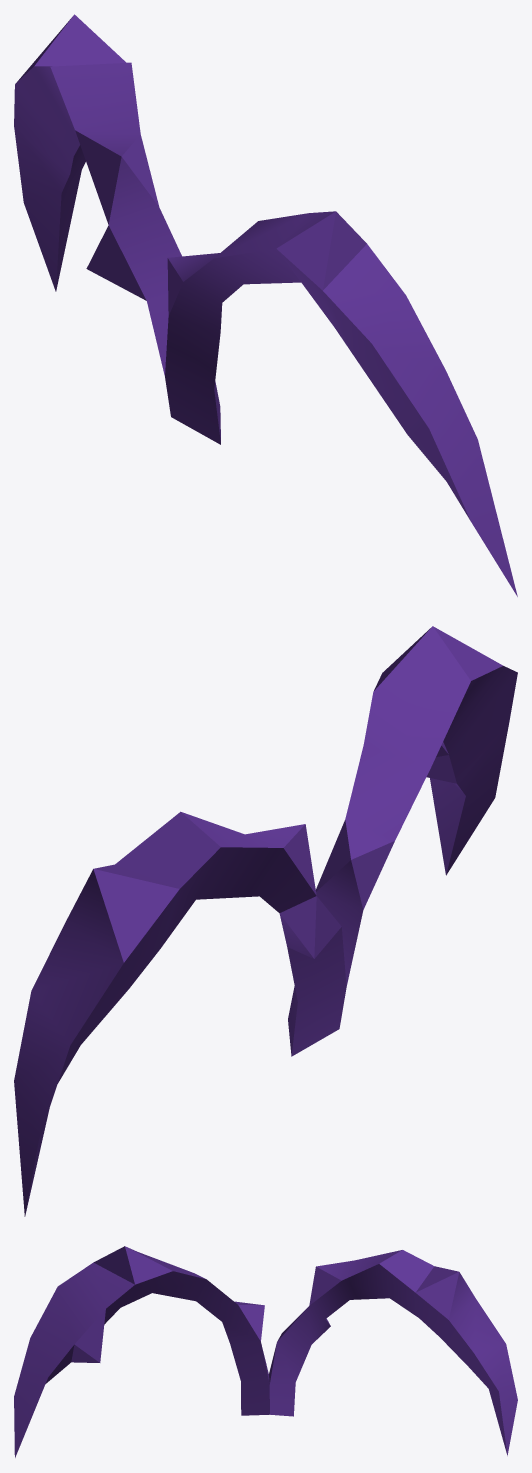
File: CarrotProjectile.fbx
3 renders of one model, top to bottom at view 1: azimuth 30°, elevation 25°; view 2: azimuth 150°, elevation 25°; view 3: azimuth 270°, elevation 25°, orthographic. The views are drawn at different scales.
Visible parts, largest first — view 1: Carrot_Leaves; view 2: Carrot_Leaves; view 3: Carrot_Leaves.
Part boxes in pixels (left/top/right/bottom): Carrot_Leaves: left=14, top=14, right=517, bottom=596; Carrot_Leaves: left=14, top=626, right=517, bottom=1216; Carrot_Leaves: left=14, top=1246, right=517, bottom=1457.
Size of the model in its own units: 0.1648 by 0.3569 by 0.8406.
